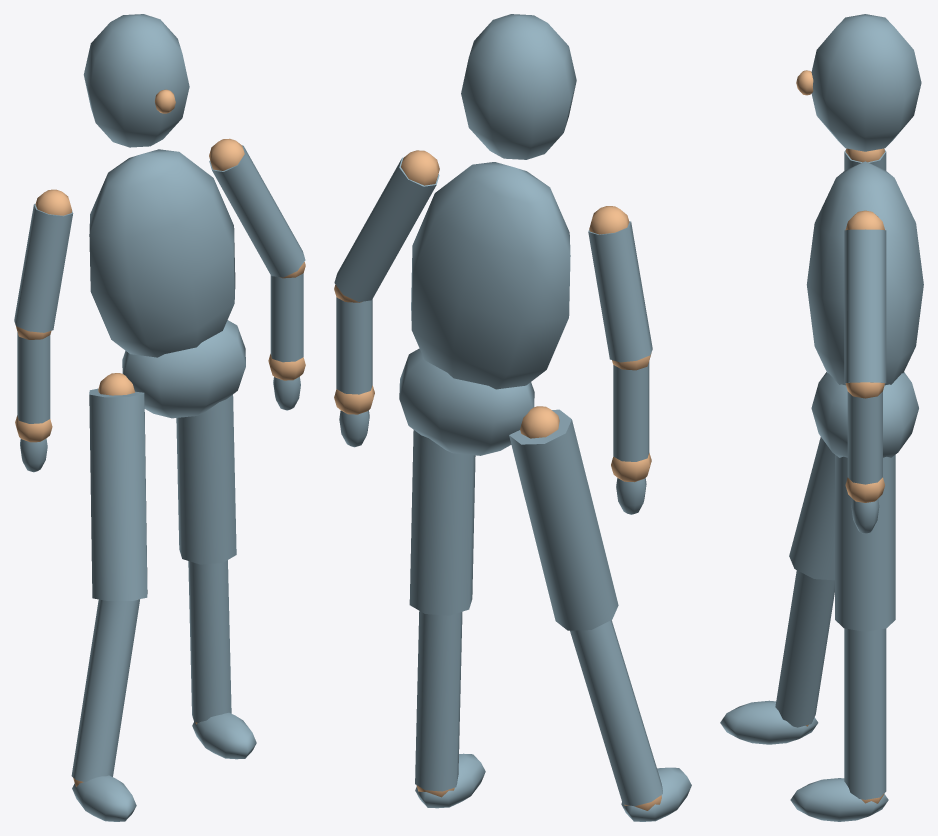
File: pose-weight-shift-3d.glb
The picture shows the model from 3 angles, left to right: view 1: azimuth 30°, elevation 25°; view 2: azimuth 150°, elevation 25°; view 3: azimuth 270°, elevation 25°; orthographic projection. The views are drawn at different scales.
Visible parts, largest first — view 1: rib-cage, left-thigh, head, right-thigh, left-shin, pelvis, right-shin, right-upper-arm, left-upper-arm, left-forearm, right-forearm, foot-la (+8 smaller); view 2: rib-cage, left-thigh, head, right-thigh, pelvis, left-shin, right-shin, right-upper-arm, left-upper-arm, left-forearm, right-forearm, foot-la (+8 smaller); view 3: rib-cage, head, right-thigh, right-shin, right-upper-arm, left-shin, pelvis, left-thigh, right-forearm, foot-ra, foot-la, hand-rw (+4 smaller).
Part boxes in pixels (left/top/right/bottom): rib-cage: left=89, top=149, right=235, bottom=357; left-thigh: left=89, top=388, right=147, bottom=600; head: left=83, top=14, right=189, bottom=147; right-thigh: left=176, top=394, right=236, bottom=564; left-shin: left=71, top=599, right=139, bottom=782; pelvis: left=122, top=320, right=245, bottom=418; right-shin: left=188, top=560, right=231, bottom=722; right-upper-arm: left=209, top=145, right=305, bottom=277; left-upper-arm: left=14, top=203, right=73, bottom=332; left-forearm: left=17, top=332, right=50, bottom=423; right-forearm: left=270, top=273, right=303, bottom=362; foot-la: left=72, top=775, right=136, bottom=821; rib-cage: left=411, top=162, right=570, bottom=389; left-thigh: left=509, top=409, right=618, bottom=630; head: left=461, top=14, right=576, bottom=159; right-thigh: left=409, top=430, right=475, bottom=615; pelvis: left=399, top=348, right=534, bottom=455; left-shin: left=570, top=620, right=662, bottom=806; right-shin: left=415, top=611, right=462, bottom=791; right-upper-arm: left=334, top=157, right=439, bottom=301; left-upper-arm: left=588, top=221, right=652, bottom=362; left-forearm: left=613, top=362, right=649, bottom=461; right-forearm: left=336, top=297, right=372, bottom=394; foot-la: left=621, top=767, right=691, bottom=821; rib-cage: left=806, top=161, right=923, bottom=385; head: left=811, top=14, right=921, bottom=151; right-thigh: left=835, top=455, right=895, bottom=631; right-shin: left=844, top=628, right=886, bottom=799; right-upper-arm: left=844, top=229, right=886, bottom=383; left-shin: left=775, top=570, right=834, bottom=727; pelvis: left=811, top=372, right=918, bottom=457; left-thigh: left=789, top=437, right=834, bottom=580; right-forearm: left=847, top=391, right=882, bottom=484; foot-ra: left=790, top=778, right=888, bottom=821; foot-la: left=720, top=700, right=818, bottom=744; hand-rw: left=851, top=499, right=879, bottom=533.
Bounding box in the file's own units: 0.7267 × 1.8 × 0.435.
